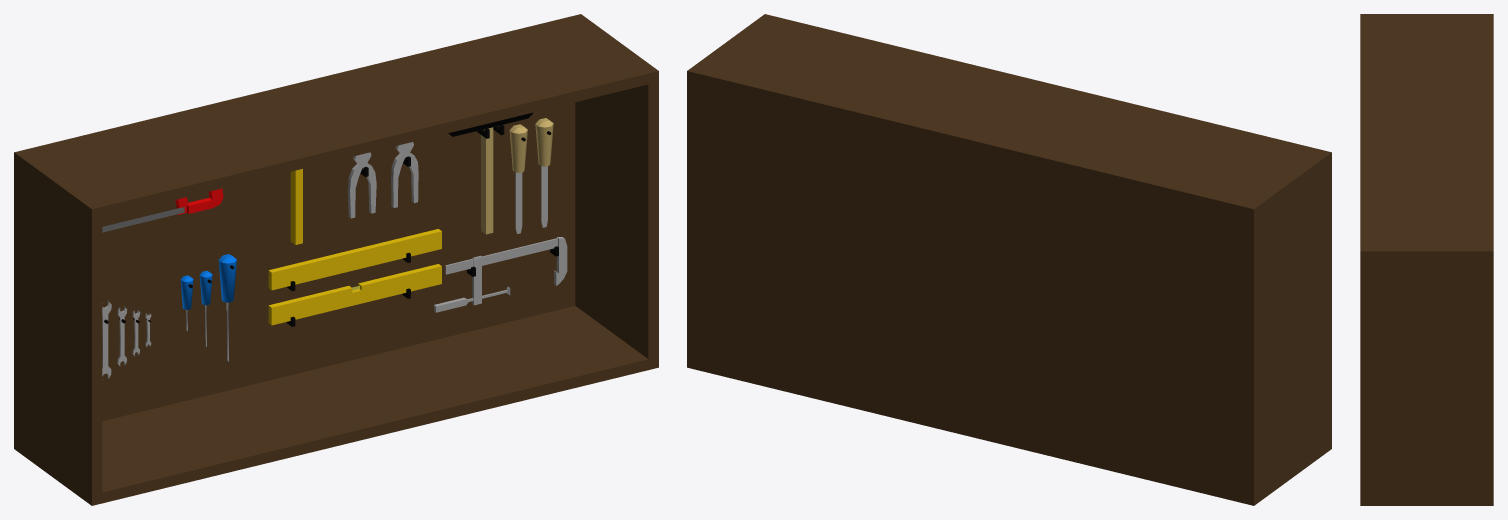
File: tools.fbx
3 views of the same model, side by side, from view 1: azimuth 30°, elevation 25°; view 2: azimuth 150°, elevation 25°; view 3: azimuth 270°, elevation 25° (orthographic). The views are drawn at different scales.
Visible parts, largest first — view 1: Nivel1; view 2: Nivel1; view 3: Nivel1.
Boxes of the visible parts, <box> form: Nivel1: <box>14,14,658,505</box>; Nivel1: <box>687,14,1331,505</box>; Nivel1: <box>1360,14,1493,505</box>.
Size of the model in its own units: 100 by 50 by 23.78.
